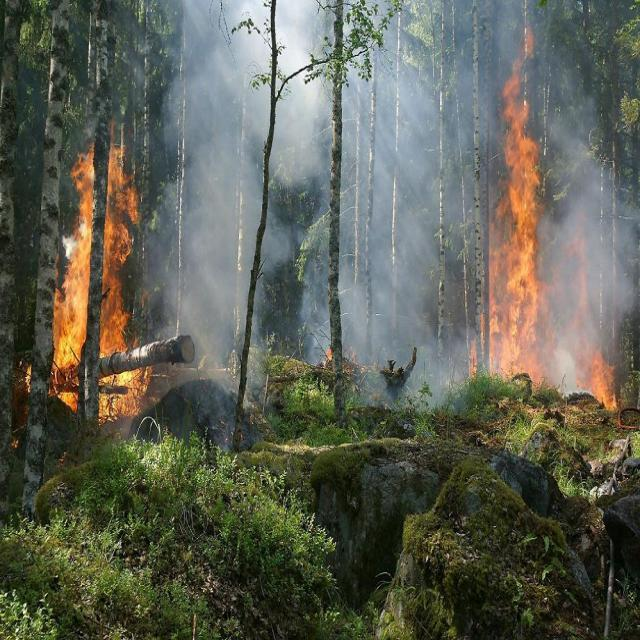Fire: (458, 16, 628, 420), (16, 106, 156, 435)
